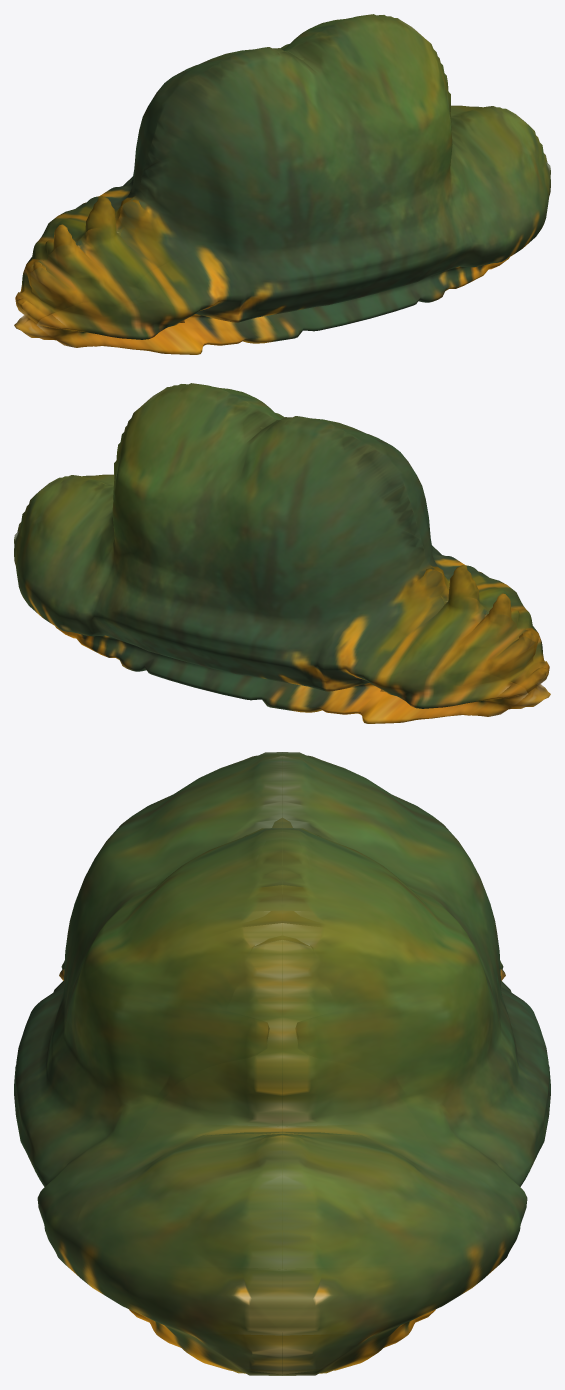
File: 01_rocks_and_bushes_r02_c01.glb
3 views of the same model, one above another, from view 1: azimuth 30°, elevation 25°; view 2: azimuth 150°, elevation 25°; view 3: azimuth 270°, elevation 25° (orthographic). The views are drawn at different scales.
Parts seen in each view (by area): view 1: 01_rocks_and_bushes_r02_c01; view 2: 01_rocks_and_bushes_r02_c01; view 3: 01_rocks_and_bushes_r02_c01.
Part boxes in pixels (<box>): 01_rocks_and_bushes_r02_c01: <box>14,14,550,354</box>; 01_rocks_and_bushes_r02_c01: <box>14,383,550,723</box>; 01_rocks_and_bushes_r02_c01: <box>14,752,550,1375</box>.
Bounding box in the file's own units: 2.91 × 1.33 × 1.53.
1 material, 1 textured.
